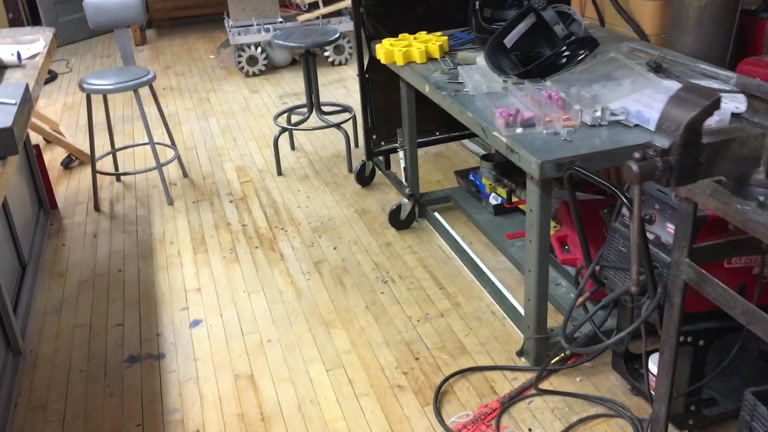gear: (374, 29, 448, 67)
